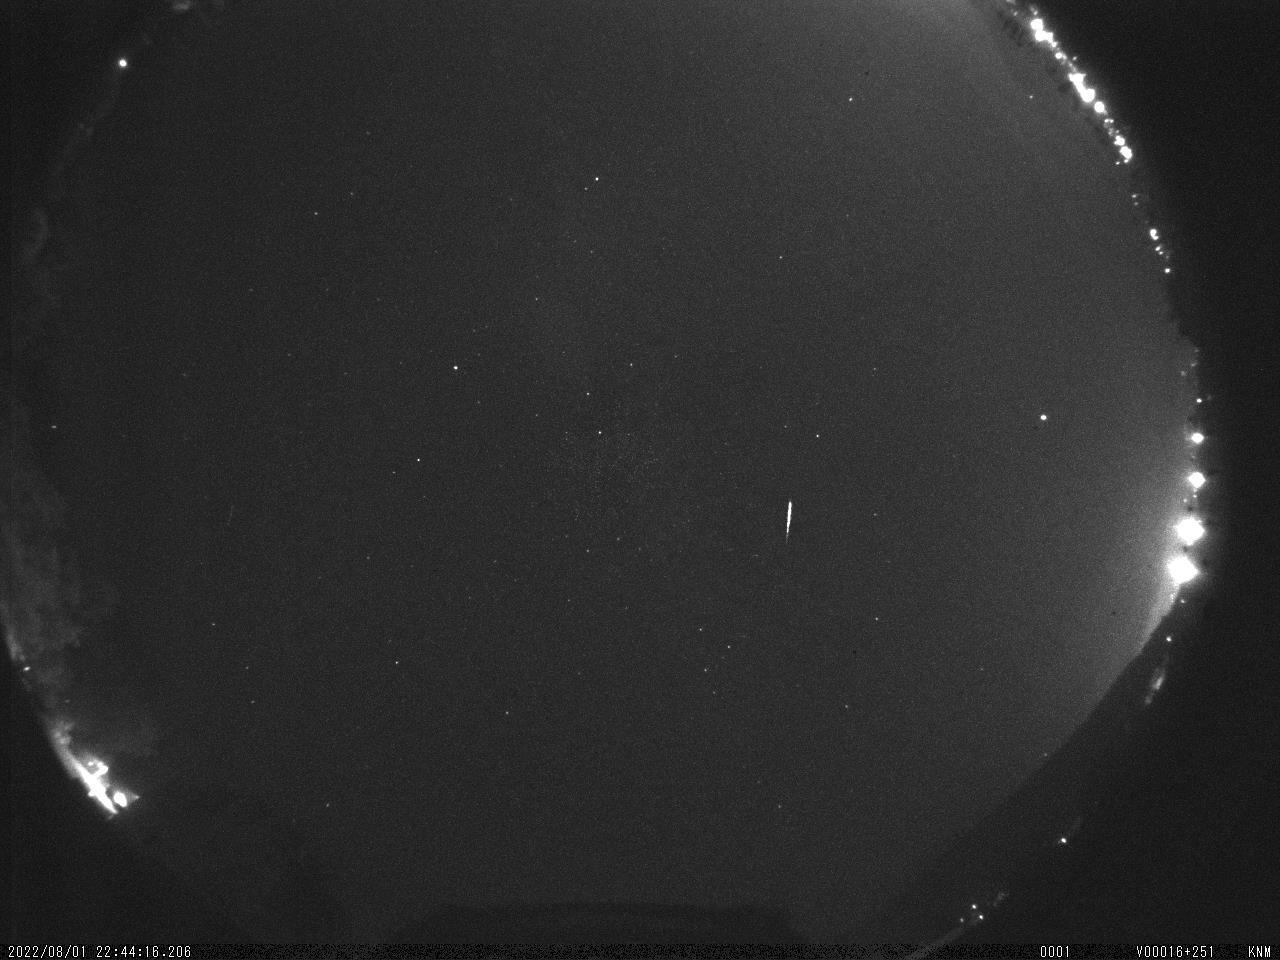Meteor: (783, 498, 794, 537)
